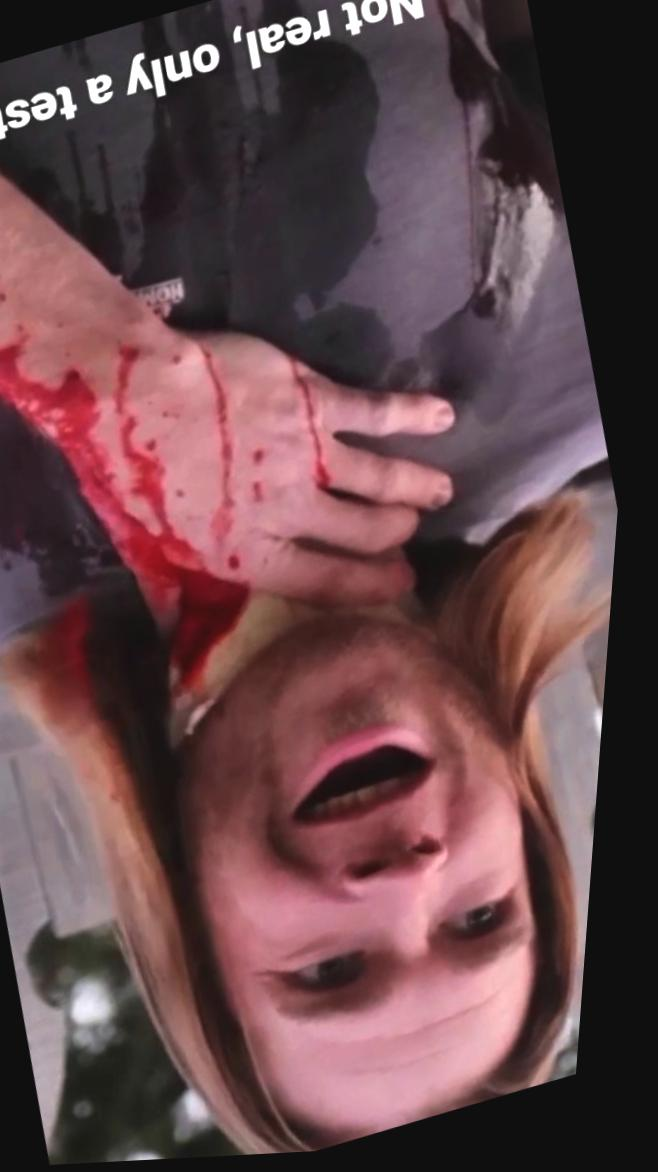Fire: (0, 344, 212, 621), (0, 396, 117, 597), (194, 333, 255, 555), (180, 571, 259, 693), (287, 353, 355, 492)
